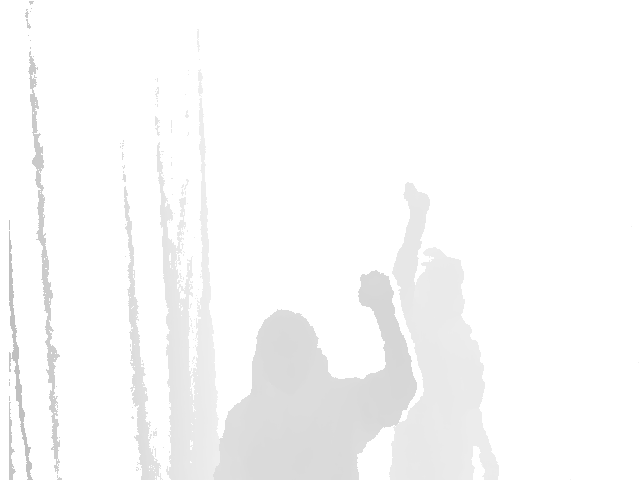hand: (356, 271, 394, 308), (403, 182, 431, 217)
head: (250, 310, 330, 384), (413, 249, 463, 313)
person: (211, 271, 418, 480), (386, 182, 500, 480)
